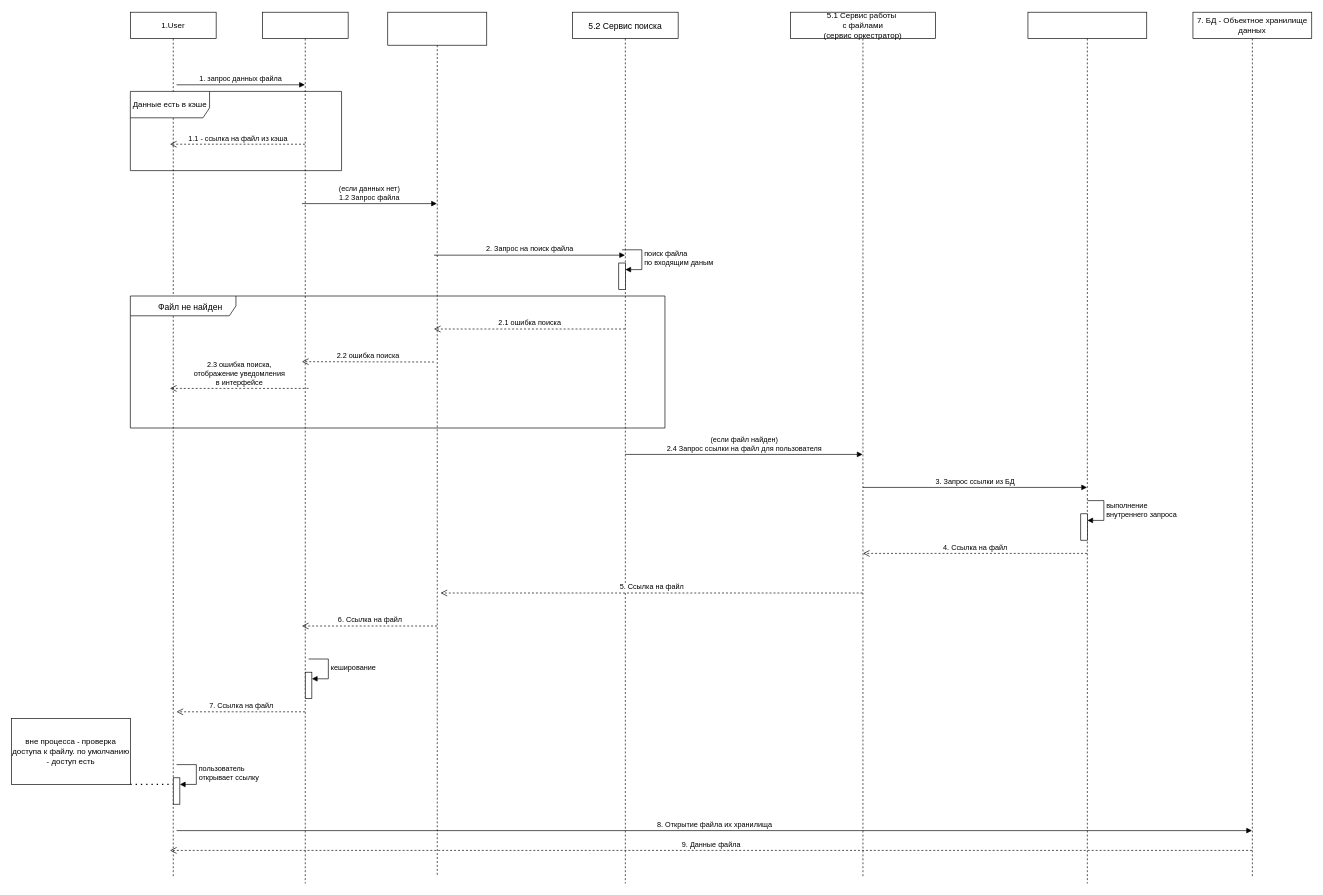
This 1323x895 diagram has some shape labels left out. The shapes that lost their labels are listed below. From the top down, each one's box as (x1, y1, x2, y2) in pixels, then its label:
(262, 12, 348, 883): CDN
(387, 12, 487, 877): API Gateway/ LoadBalancer
(1027, 12, 1147, 883): 6. БД - Хранилище метаданных
